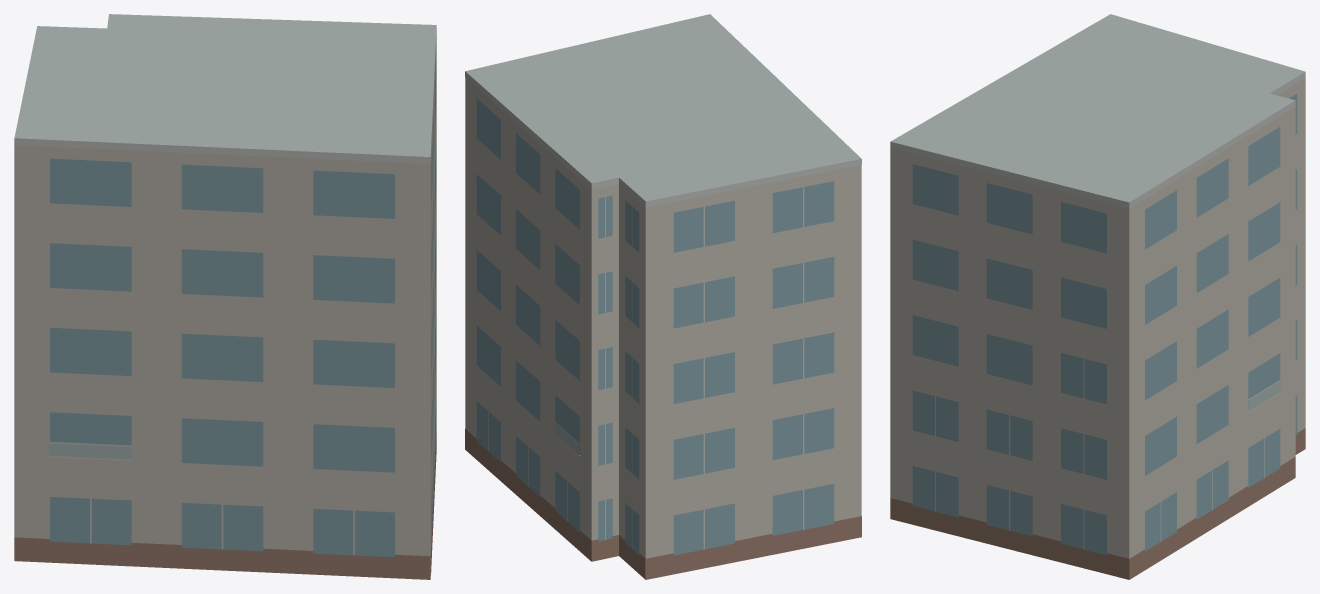
The model's file is survey-upis-32780060.glb.
The picture shows the model from 3 angles, left to right: view 1: azimuth 30°, elevation 25°; view 2: azimuth 150°, elevation 25°; view 3: azimuth 270°, elevation 25°; orthographic projection. The views are drawn at different scales.
Visible parts, largest first — view 1: survey-upis-32780060.tmp; view 2: survey-upis-32780060.tmp; view 3: survey-upis-32780060.tmp.
Boxes of the visible parts, x1,y1,x2,y2 form: survey-upis-32780060.tmp: [14, 14, 436, 579]; survey-upis-32780060.tmp: [465, 14, 861, 579]; survey-upis-32780060.tmp: [890, 14, 1305, 579].
Size of the model in its own units: 16.18 by 15.1 by 15.07.
